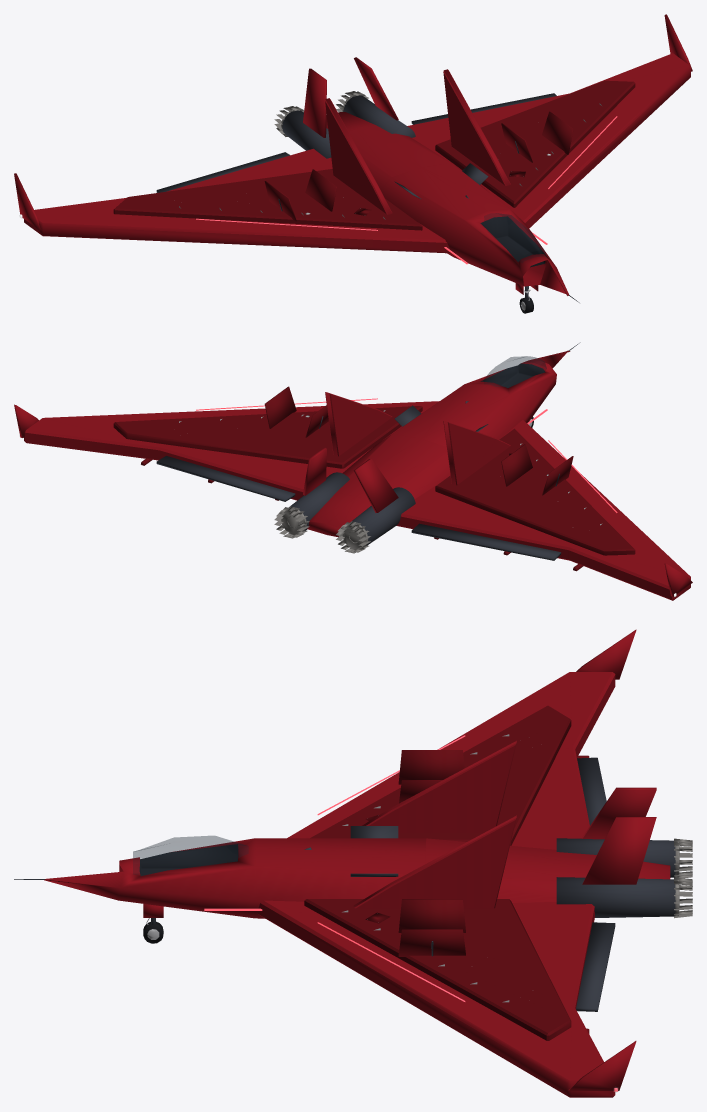
Rendered from CRA1_specter_vtol_lod1.glb.
The picture shows the model from 3 angles, top to bottom: view 1: azimuth 30°, elevation 25°; view 2: azimuth 150°, elevation 25°; view 3: azimuth 270°, elevation 25°; orthographic projection. The views are drawn at different scales.
Visible parts, largest first — view 1: CRA1_specter_vtol_LOD1; view 2: CRA1_specter_vtol_LOD1; view 3: CRA1_specter_vtol_LOD1.
Boxes of the visible parts, left/top/right/bottom form: CRA1_specter_vtol_LOD1: left=14, top=14, right=692, bottom=313; CRA1_specter_vtol_LOD1: left=14, top=342, right=692, bottom=600; CRA1_specter_vtol_LOD1: left=14, top=629, right=692, bottom=1097.
Bounding box in the file's own units: 28.9 × 5.32 × 19.96.
15 materials, 9 textured.
